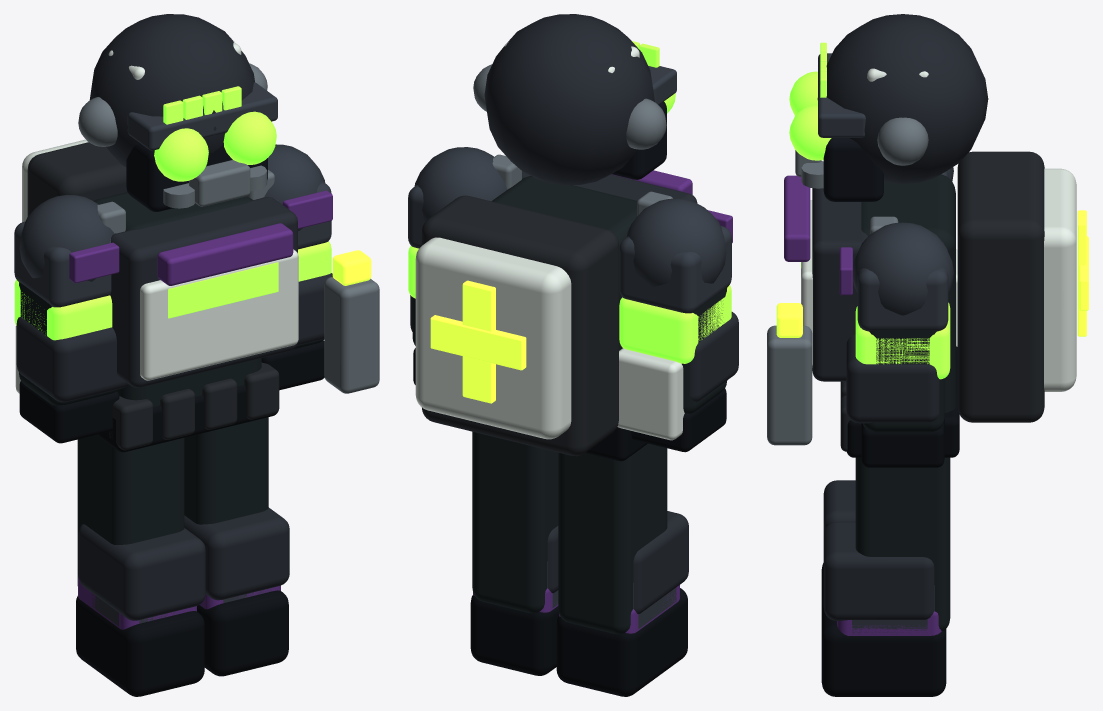
Rendered from medic_l04.glb.
3 renders of one model, left to right at view 1: azimuth 30°, elevation 25°; view 2: azimuth 150°, elevation 25°; view 3: azimuth 270°, elevation 25°, orthographic. The views are drawn at different scales.
Visible parts, largest first — view 1: trouser (×2), shaped_knee_guard (×2), boot (×2), rounded_helmet, reinforced_vest, segmented_vest, forearm_plate (×2), shoulder_joint (×2), aid_injector, glove (×2), field_medical_rank, field_pack (+22 smaller); view 2: trouser (×2), rounded_helmet, medical_pack, field_pack, boot (×2), shoulder_joint (×2), shoulder_plate (×2), triage_satchel, rank_stripe, body, shaped_knee_guard (×2), aid_cross_horizontal (+12 smaller); view 3: field_pack, rounded_helmet, trouser, shaped_knee_guard (×2), boot, segmented_vest, medical_pack, shoulder_joint, forearm_plate, body, aid_injector, shoulder_plate (+18 smaller).
Part boxes in pixels (bbox=[...]): trouser (×2): bbox=[77, 417, 268, 585]; shaped_knee_guard (×2): bbox=[78, 507, 289, 620]; boot (×2): bbox=[76, 590, 288, 696]; rounded_helmet: bbox=[89, 14, 254, 166]; reinforced_vest: bbox=[140, 249, 298, 380]; segmented_vest: bbox=[110, 197, 297, 387]; forearm_plate (×2): bbox=[16, 273, 332, 402]; shoulder_joint (×2): bbox=[19, 144, 325, 281]; aid_injector: bbox=[324, 276, 379, 393]; glove (×2): bbox=[19, 340, 324, 443]; field_medical_rank: bbox=[157, 223, 293, 285]; field_pack: bbox=[27, 142, 127, 216]; trouser (×2): bbox=[472, 431, 667, 634]; rounded_helmet: bbox=[484, 14, 654, 185]; medical_pack: bbox=[415, 237, 571, 439]; field_pack: bbox=[421, 195, 618, 456]; boot (×2): bbox=[470, 588, 687, 696]; shoulder_joint (×2): bbox=[414, 147, 726, 286]; shoulder_plate (×2): bbox=[408, 185, 731, 313]; triage_satchel: bbox=[617, 348, 684, 440]; rank_stripe: bbox=[619, 285, 731, 363]; body: bbox=[492, 176, 637, 350]; shaped_knee_guard (×2): bbox=[547, 511, 688, 613]; aid_cross_horizontal: bbox=[430, 315, 526, 370]; field_pack: bbox=[957, 151, 1044, 422]; rounded_helmet: bbox=[817, 14, 988, 183]; trouser: bbox=[855, 457, 950, 630]; shaped_knee_guard (×2): bbox=[823, 480, 934, 620]; boot: bbox=[821, 604, 946, 696]; segmented_vest: bbox=[812, 188, 867, 381]; medical_pack: bbox=[1044, 168, 1076, 391]; shoulder_joint: bbox=[853, 222, 953, 315]; forearm_plate: bbox=[846, 334, 939, 423]; body: bbox=[861, 174, 955, 412]; aid_injector: bbox=[767, 325, 812, 445]; shoulder_plate: bbox=[857, 246, 948, 331].
Size of the model in its own units: 0.91 by 1.87 by 0.8525.
